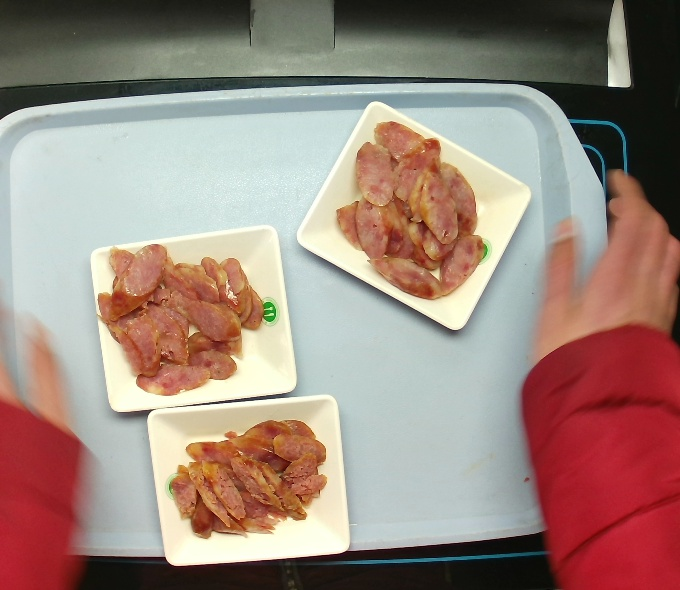wcq-QiePianXiangChang: (334, 126, 499, 298), (99, 244, 266, 398), (168, 410, 334, 547)
